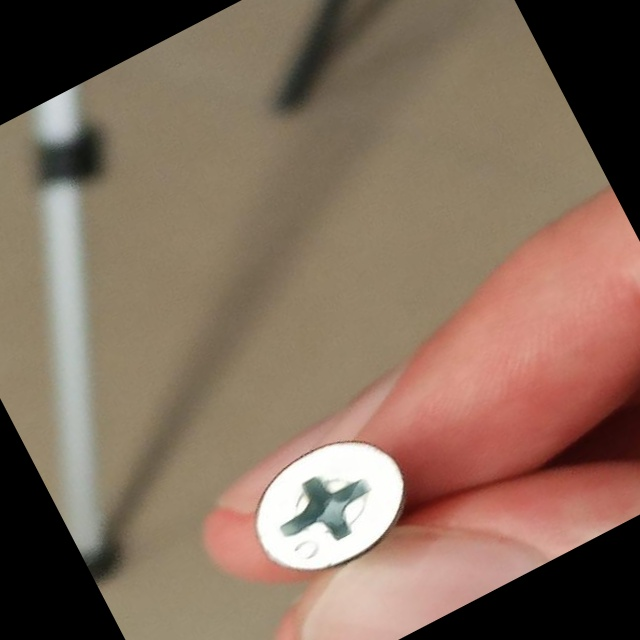phillips: (234, 417, 428, 595)
